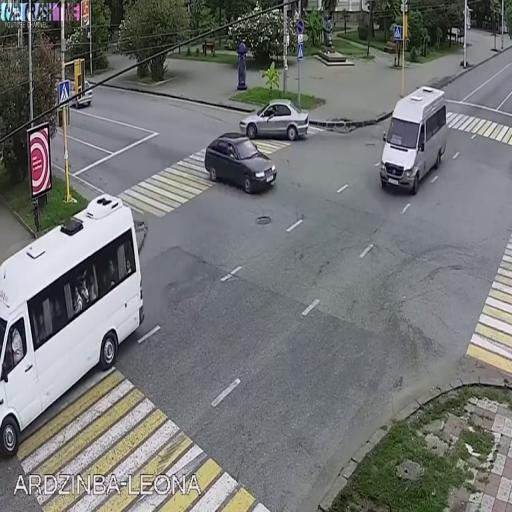小汽车: (2, 204, 144, 433), (374, 84, 450, 201), (206, 132, 273, 194), (246, 102, 308, 140)
